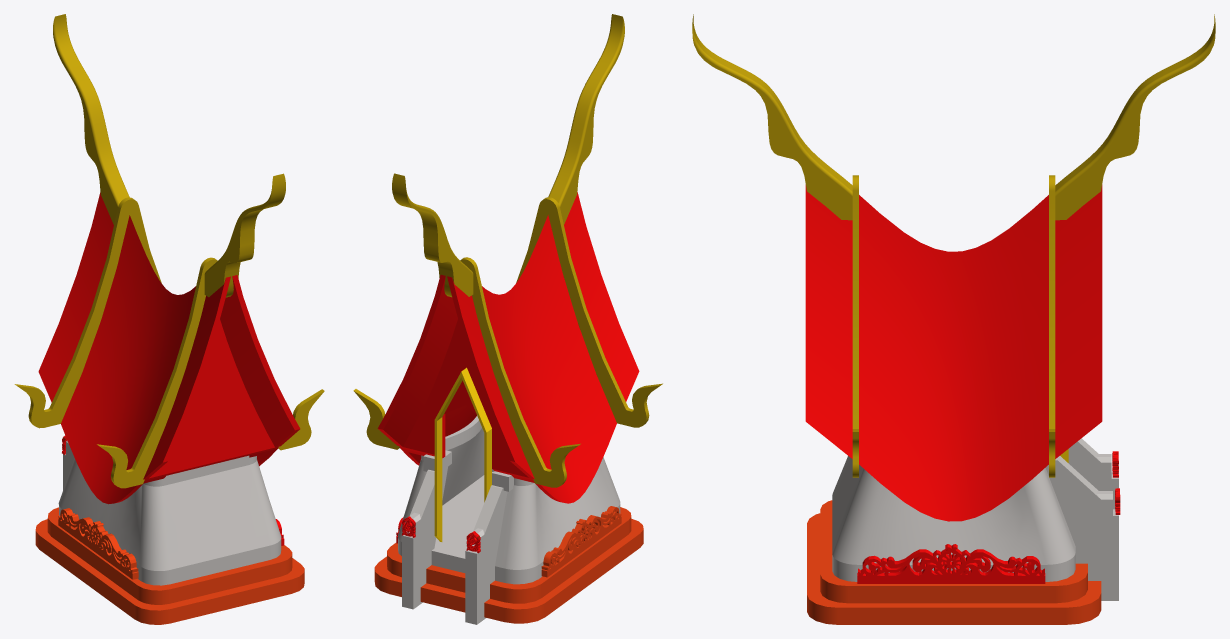
Rendered from kstmp24047390.glb.
3 renders of one model, left to right at view 1: azimuth 30°, elevation 25°; view 2: azimuth 150°, elevation 25°; view 3: azimuth 270°, elevation 25°, orthographic. The views are drawn at different scales.
Visible parts, largest first — view 1: Part21[82], Part37[145], Part53[225], Part52[326], Part52[321], Part37[154], Part22[97], Part22[90], Part49[207], Part49[212], Part52[222], curtain pattern $ Download Vector3[812] (+1 smaller); view 2: Part21[82], Part37[154], Part53[225], Part52[326], Part37[145], Part22[90], Part22[97], Part49[212], Part52[321], Part52[222], Part49[207], Part59[298] (+4 smaller); view 3: Part21[82], Part53[225], Part37[145], Part37[154], Part52[326], Part52[321], curtain pattern $ Download Vector3[813], Part49[207], Part49[212], Part67[482], Part22[90], Part22[97] (+1 smaller).
Boxes of the visible parts, box(x1,y1,x2,y2) form: Part21[82]: box(61, 215, 277, 504); Part37[145]: box(143, 275, 300, 480); Part53[225]: box(58, 440, 281, 570); Part52[326]: box(35, 519, 304, 624); Part52[321]: box(47, 507, 292, 604); Part37[154]: box(38, 192, 128, 419); Part22[97]: box(14, 197, 161, 428); Part22[90]: box(97, 257, 324, 488); Part49[207]: box(53, 14, 129, 224); Part49[212]: box(204, 173, 285, 297); Part52[222]: box(59, 506, 281, 585); curtain pattern $ Download Vector3[812]: box(58, 508, 138, 579); Part21[82]: box(400, 215, 616, 503); Part37[154]: box(377, 274, 534, 480); Part53[225]: box(398, 428, 620, 572); Part52[326]: box(374, 518, 643, 623); Part37[145]: box(549, 192, 639, 401); Part22[90]: box(516, 197, 662, 427); Part22[97]: box(353, 257, 580, 487); Part49[212]: box(548, 14, 624, 224); Part52[321]: box(387, 507, 631, 603); Part52[222]: box(398, 471, 620, 584); Part49[207]: box(392, 173, 473, 297); Part59[298]: box(434, 367, 491, 541); Part21[82]: box(859, 195, 1048, 521); Part53[225]: box(832, 438, 1112, 564); Part37[145]: box(805, 185, 852, 458); Part37[154]: box(1055, 185, 1102, 458); Part52[326]: box(807, 513, 1101, 624); Part52[321]: box(820, 500, 1087, 603); curtain pattern $ Download Vector3[813]: box(857, 544, 1045, 583); Part49[207]: box(1055, 14, 1215, 220); Part49[212]: box(692, 14, 852, 220); Part67[482]: box(1075, 509, 1118, 600); Part22[90]: box(852, 175, 858, 477); Part22[97]: box(1049, 175, 1055, 477).
Size of the model in its own units: 0.00491 by 0.00979 by 0.00826.
